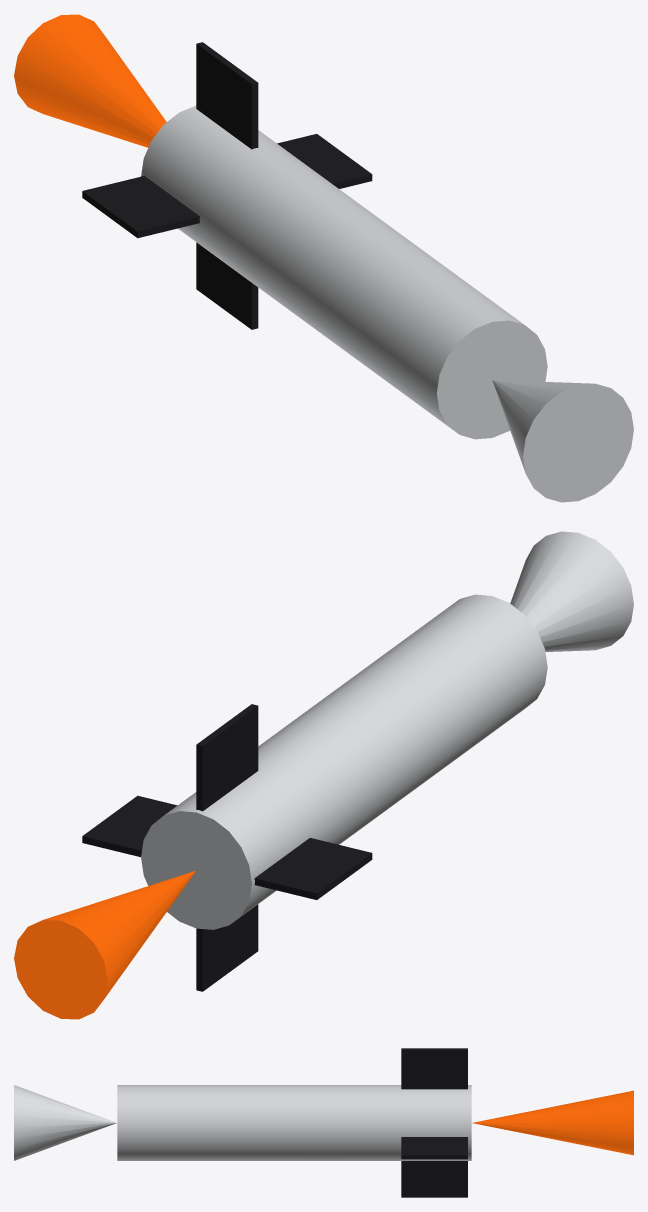
The model's file is rocket.glb.
3 renders of one model, top to bottom at view 1: azimuth 30°, elevation 25°; view 2: azimuth 150°, elevation 25°; view 3: azimuth 270°, elevation 25°, orthographic. The views are drawn at different scales.
Bounding box in the file's own units: 0.2619 × 0.2619 × 1.
